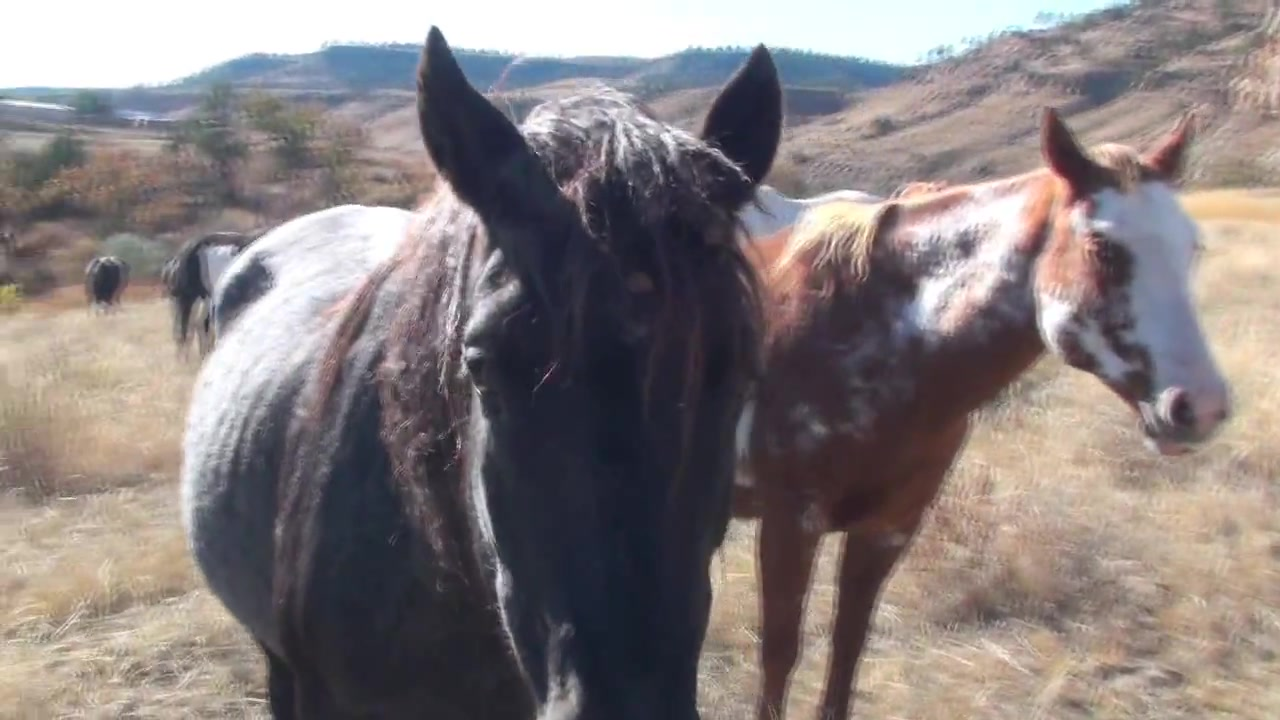horse: (177, 26, 786, 720)
